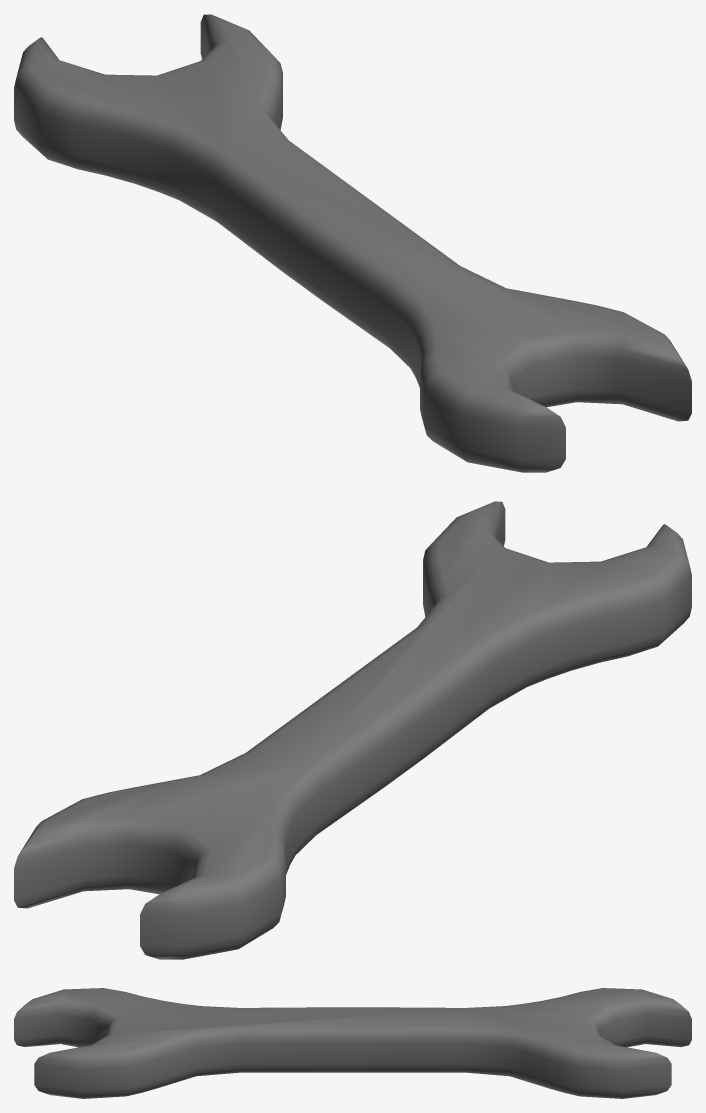
The model's file is Screwdriver.fbx.
The picture shows the model from 3 angles, top to bottom: view 1: azimuth 30°, elevation 25°; view 2: azimuth 150°, elevation 25°; view 3: azimuth 270°, elevation 25°; orthographic projection. The views are drawn at different scales.
Visible parts, largest first — view 1: Screwdriver; view 2: Screwdriver; view 3: Screwdriver.
Boxes of the visible parts, left/top/right/bottom form: Screwdriver: left=14, top=14, right=691, bottom=472; Screwdriver: left=14, top=501, right=691, bottom=959; Screwdriver: left=14, top=988, right=691, bottom=1098.
Bounding box in the file's own units: 0.1331 × 0.0387 × 0.5206.
